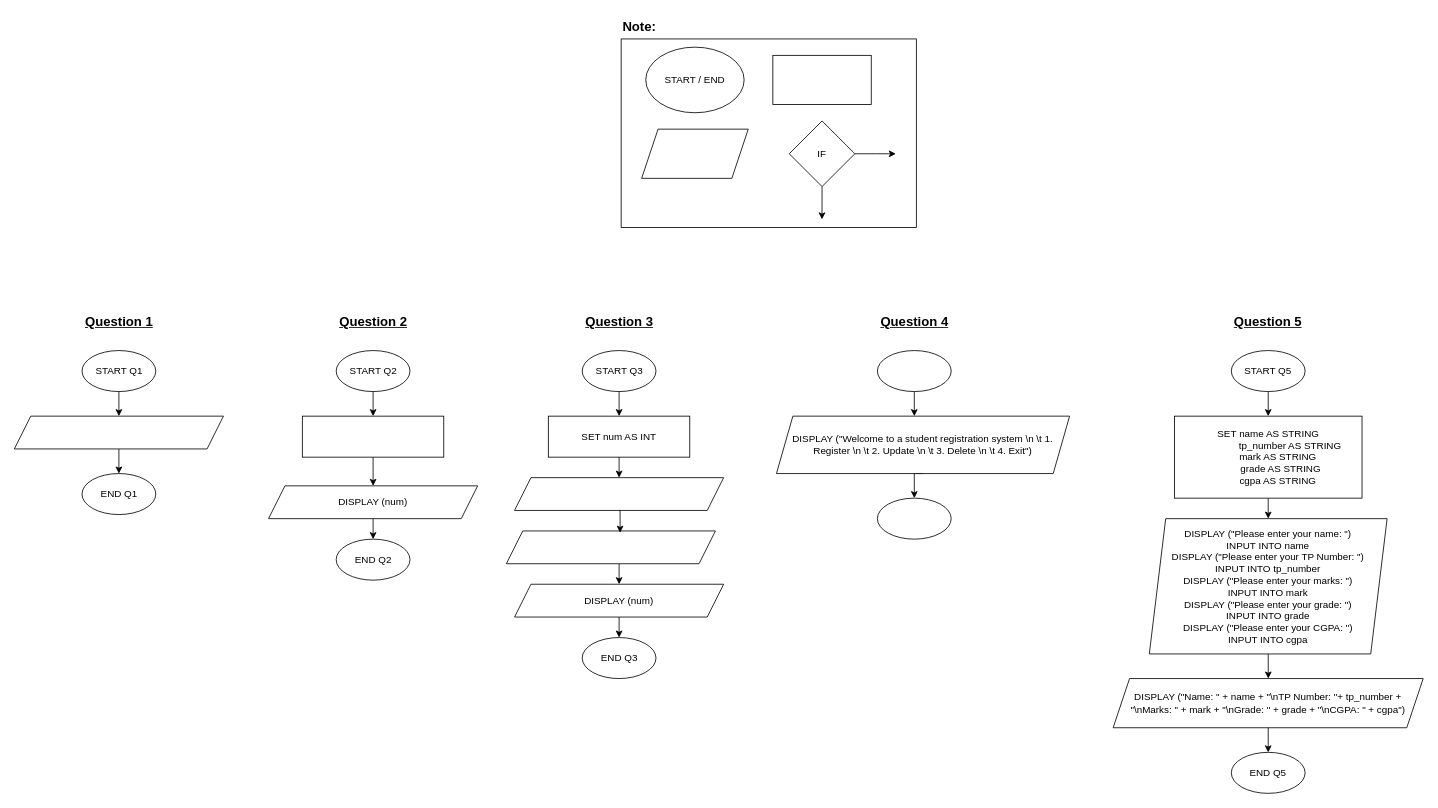
Some shapes in this 1438 by 808 pixel diagram are drawn without their labels. Each missing label, with the centre of its shape:
DISPLAY ("Hello Good Day"): pixel 118 432
DISPLAY ("Please enter your number: "): pixel 619 493
END Q4: pixel 914 518
INPUT / OUTPUT: pixel 694 153
INPUT INTO num: pixel 610 547
PROCESS: pixel 821 80
SET num AS INT num = 10: pixel 373 436
START Q4: pixel 914 371
